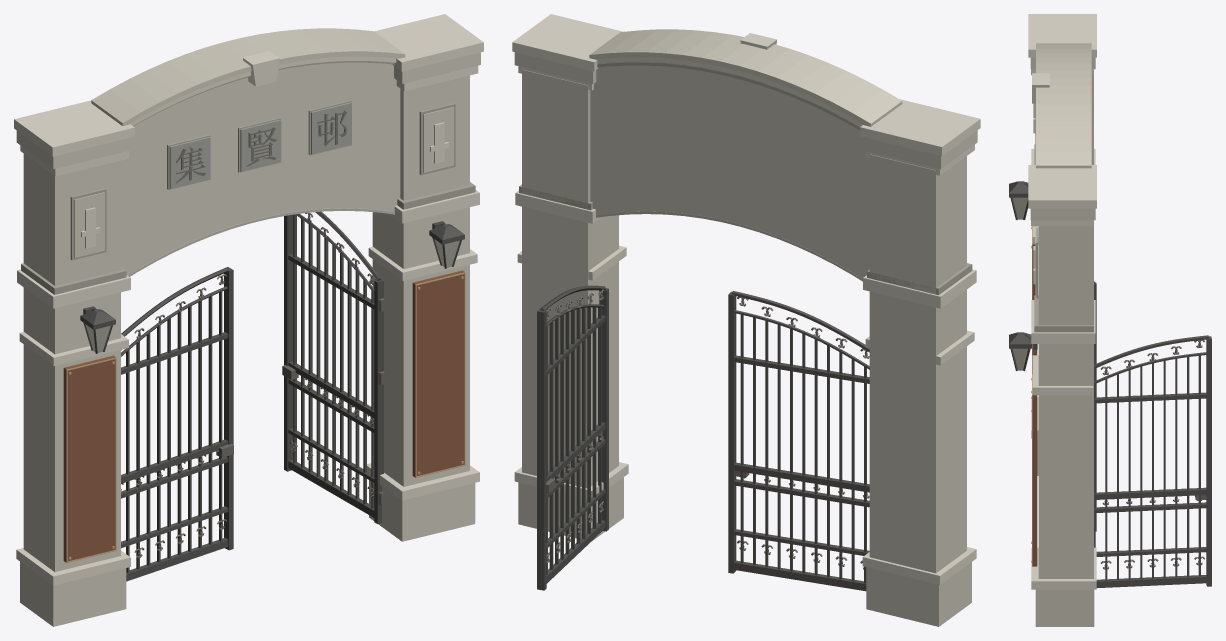
Rendered from huangpu-jixian-terrace-jintan-gate-lod.glb.
3 views of the same model, side by side, from view 1: azimuth 30°, elevation 25°; view 2: azimuth 150°, elevation 25°; view 3: azimuth 270°, elevation 25° (orthographic). The views are drawn at different scales.
Visible parts, largest first — view 1: 集贤村金坛路35弄南弄口; view 2: 集贤村金坛路35弄南弄口; view 3: 集贤村金坛路35弄南弄口.
Boxes of the visible parts, left/top/right/bottom form: 集贤村金坛路35弄南弄口: left=14, top=14, right=483, bottom=626; 集贤村金坛路35弄南弄口: left=512, top=14, right=980, bottom=626; 集贤村金坛路35弄南弄口: left=1009, top=14, right=1211, bottom=626.
Size of the model in its own units: 4.88 by 5.57 by 2.24.
